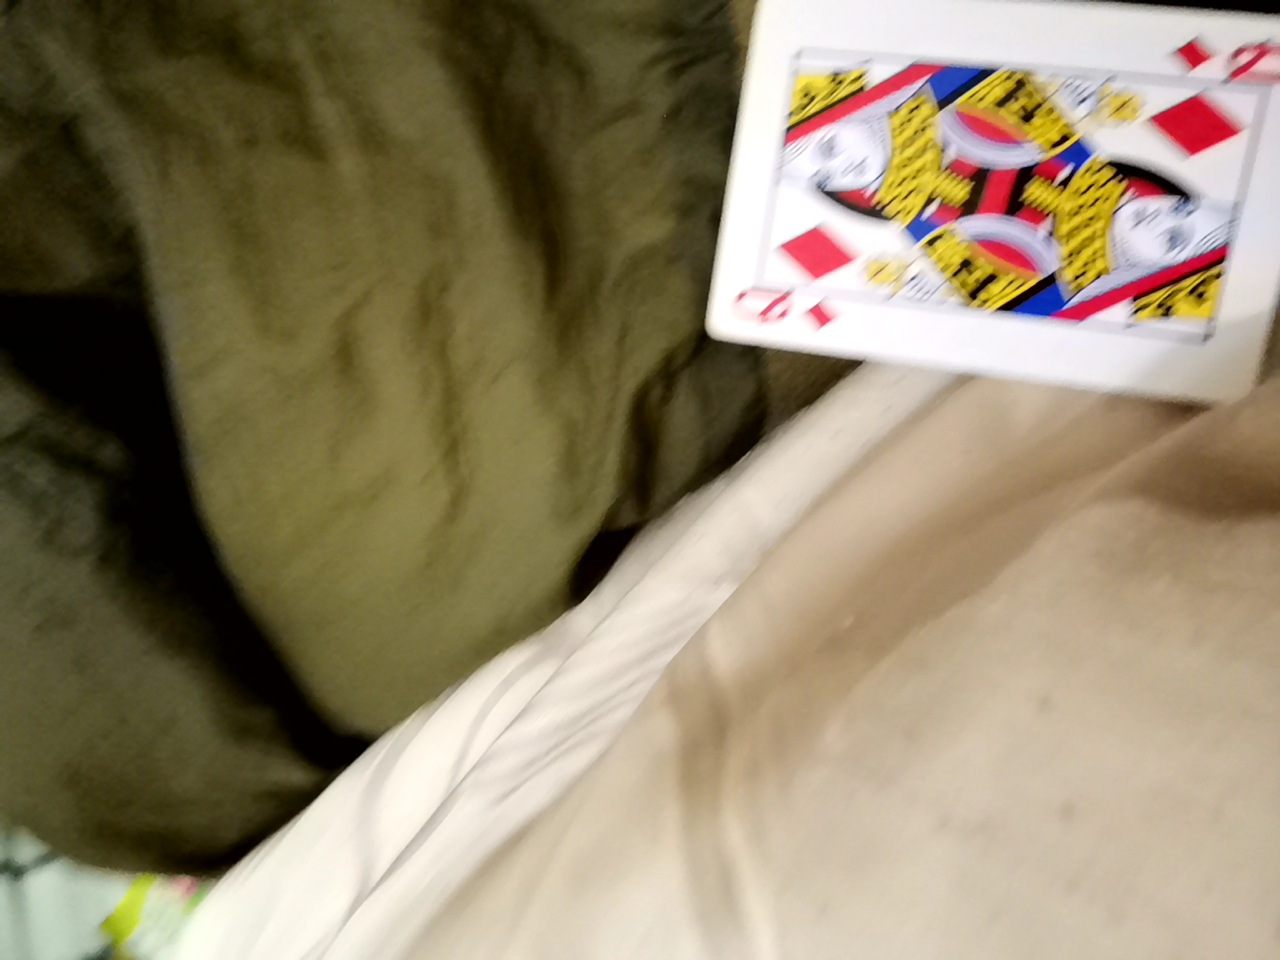fk q: (764, 8, 1270, 375)
